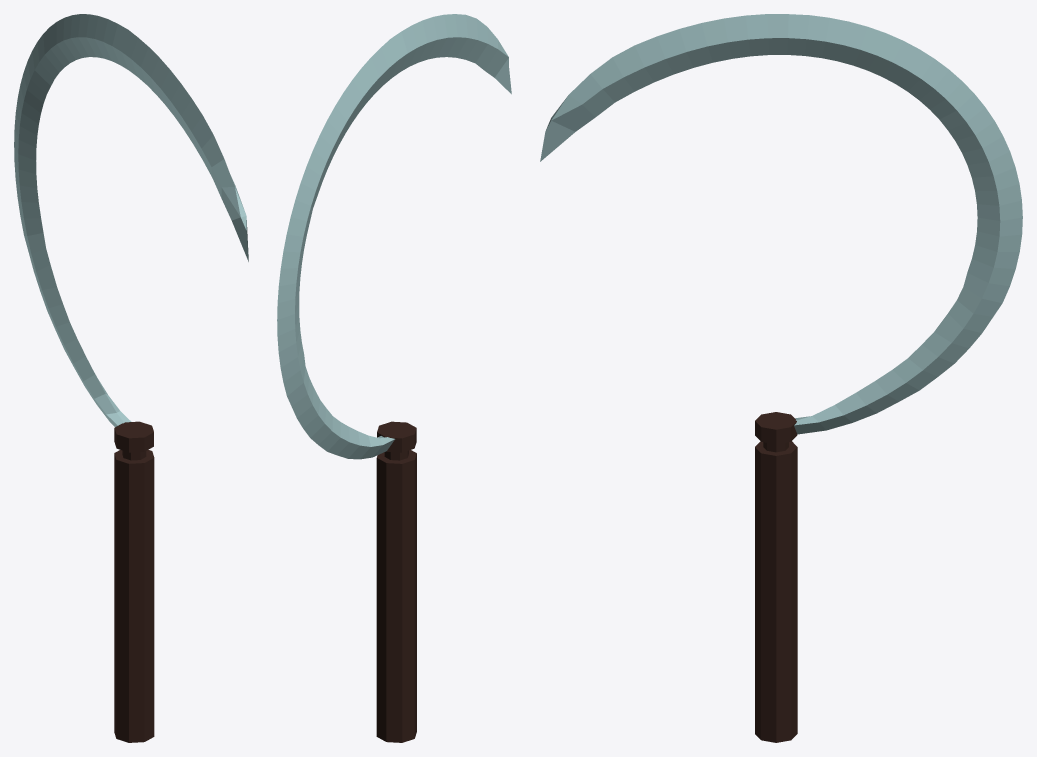
Rendered from sickle.obj.
The picture shows the model from 3 angles, left to right: view 1: azimuth 30°, elevation 25°; view 2: azimuth 150°, elevation 25°; view 3: azimuth 270°, elevation 25°; orthographic projection. The views are drawn at different scales.
Visible parts, largest first — view 1: NurbsPath, Cylinder; view 2: NurbsPath, Cylinder; view 3: NurbsPath, Cylinder.
Part boxes in pixels (<box>): NurbsPath: <box>14,14,248,427</box>; Cylinder: <box>114,421,154,742</box>; NurbsPath: <box>277,14,511,459</box>; Cylinder: <box>376,421,416,742</box>; NurbsPath: <box>540,14,1022,434</box>; Cylinder: <box>755,412,797,742</box>.
Bounding box in the file's own units: 0.1887 × 3.51 × 2.14.
